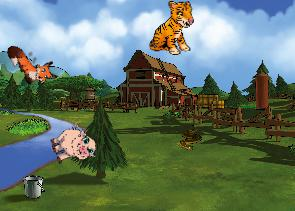fox: (3, 32, 61, 94)
pig: (46, 120, 99, 171)
tiger: (149, 1, 194, 55)
